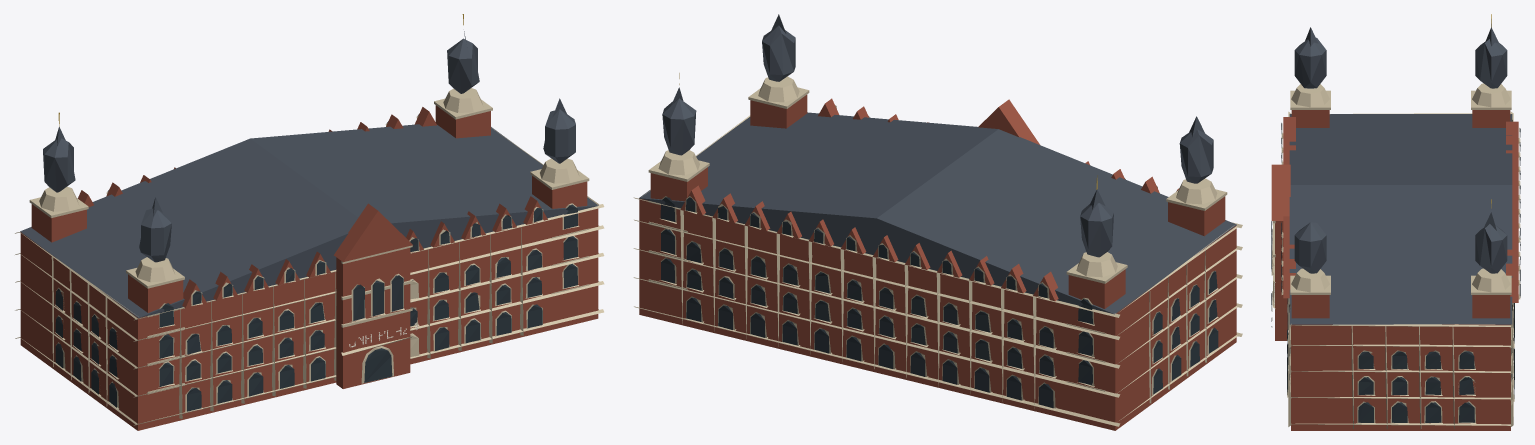
Rendered from magna-plaza.lod1.glb.
3 renders of one model, left to right at view 1: azimuth 30°, elevation 25°; view 2: azimuth 150°, elevation 25°; view 3: azimuth 270°, elevation 25°, orthographic. The views are drawn at different scales.
Visible parts, largest first — view 1: magna-plaza; view 2: magna-plaza; view 3: magna-plaza.
Boxes of the visible parts, x1,y1,x2,y2 form: magna-plaza: (15, 14, 604, 430); magna-plaza: (633, 14, 1242, 430); magna-plaza: (1271, 14, 1520, 430).
Size of the model in its own units: 80.35 by 38.1 by 39.34.
